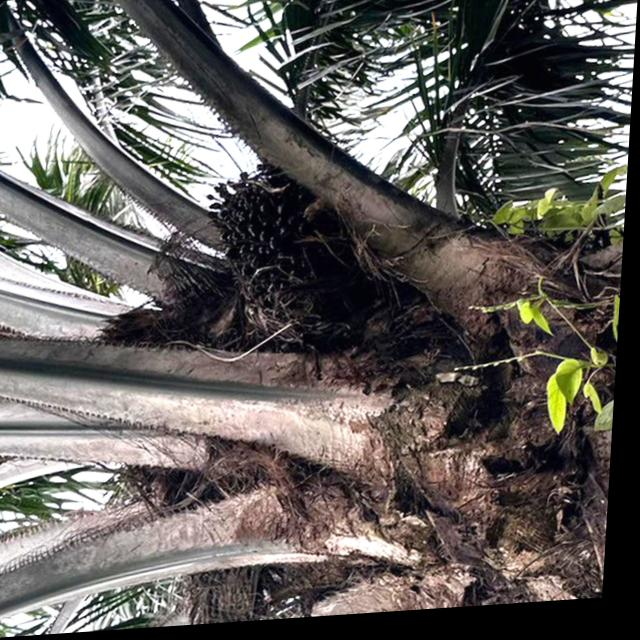almost: (192, 158, 365, 325)
